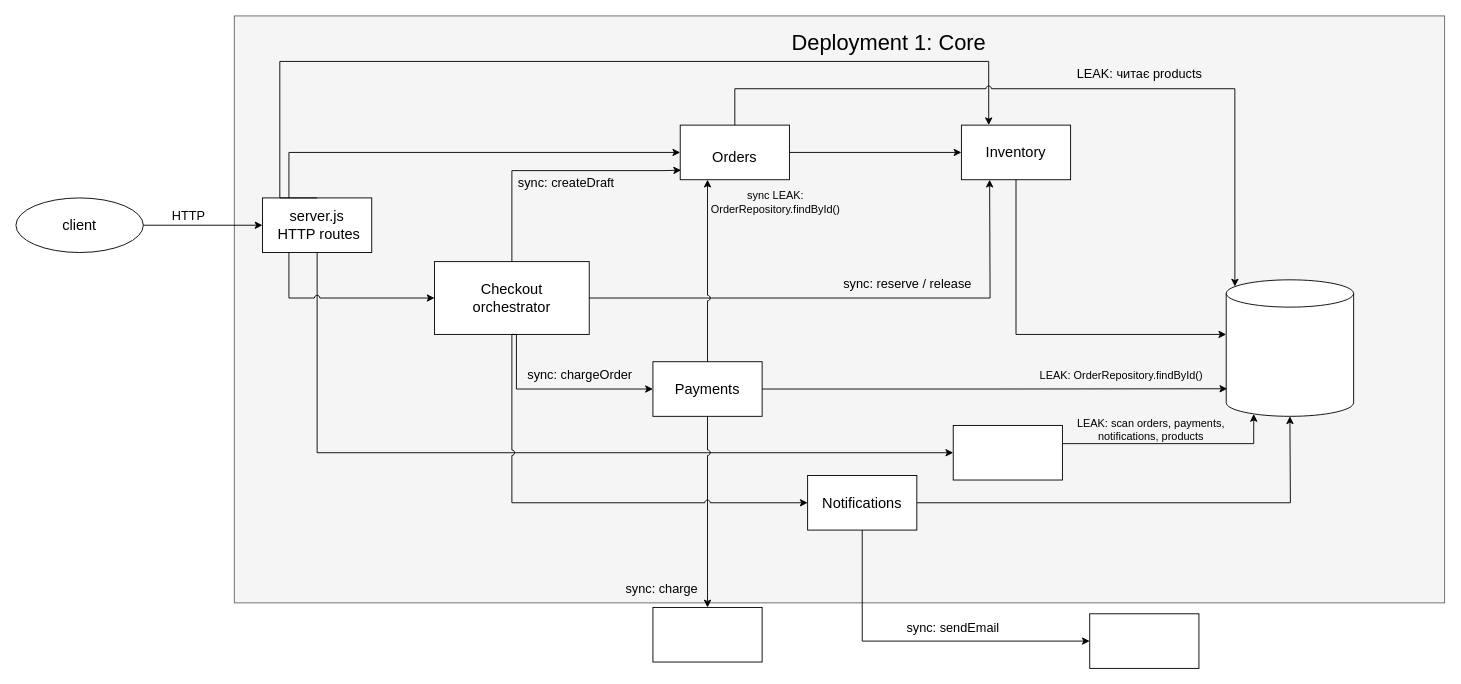
Image size: 1461x684. Some labels were removed from this diagram. The shapes that lost their labels are listed below. From the top down, each one's box as (x1, y1, x2, y2) in pixels, then its label:
(1225, 279, 1354, 416): Shared in memory DB
(952, 425, 1062, 480): Reporting
(652, 607, 762, 662): Fakepay
(1089, 613, 1199, 668): Fakemail
